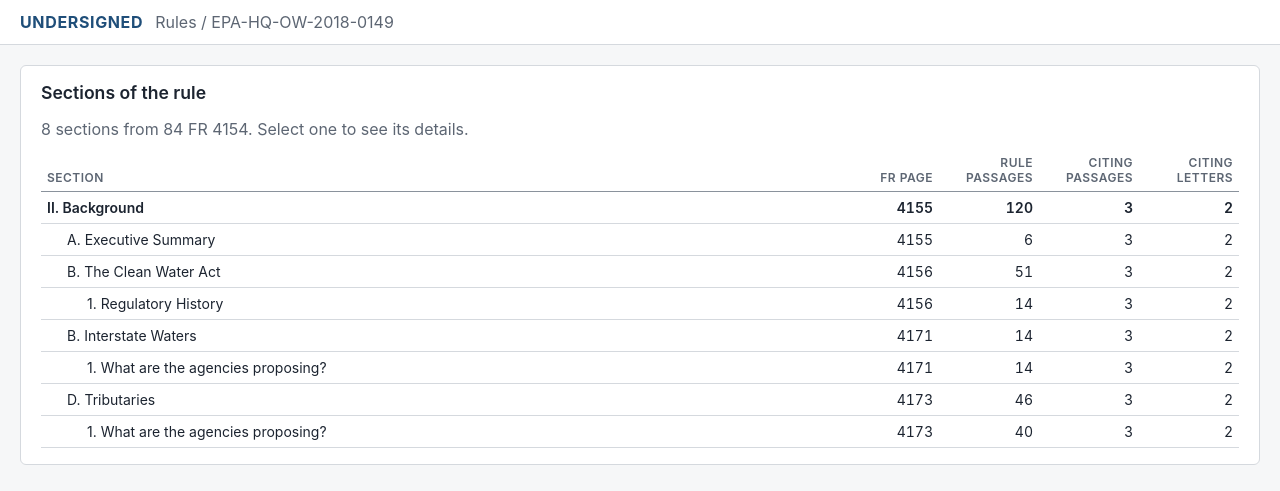
Test: opening another section never shows the previous section's passages
Check: the table is shown, box [41,155,1239,448]
Click the button "D. Tributaries" at (111, 400), box [67,391,155,408]
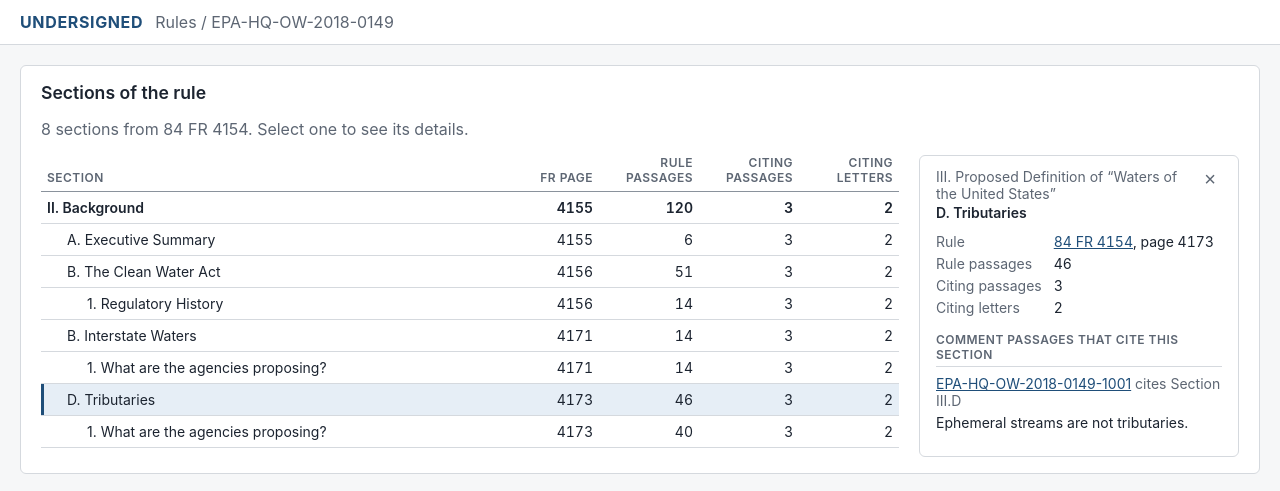
Check: the text "Ephemeral streams are not tributaries." is shown, box [936,413,1222,432]
Click the button "II. Background" at (96, 208), box [47,199,144,216]
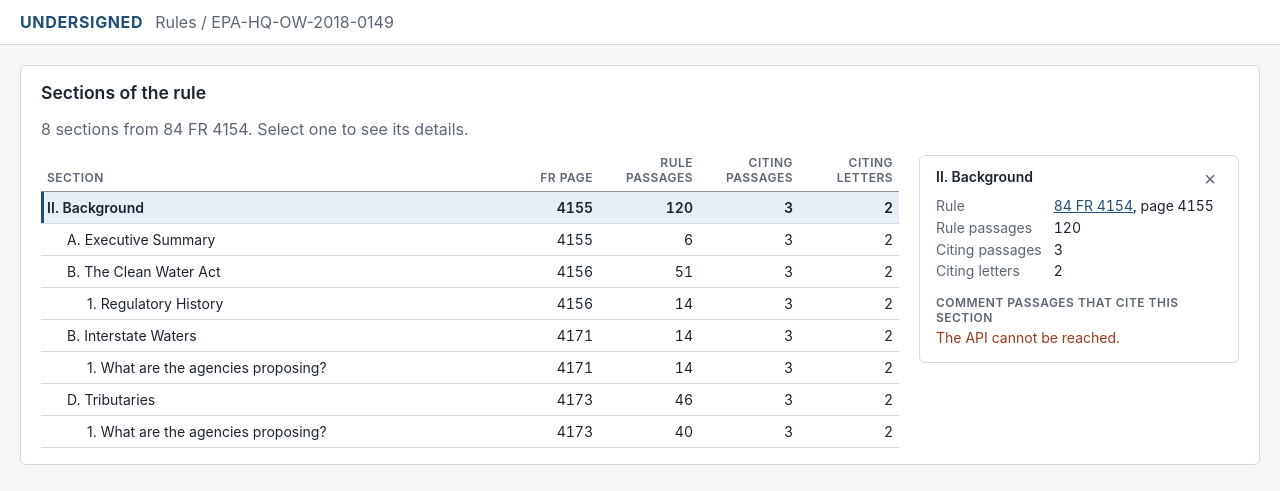
Check: the text "Ephemeral streams are not tributaries." is gone
